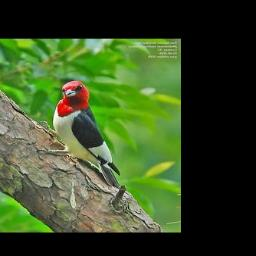Woodpecker: (41, 80, 125, 188)
